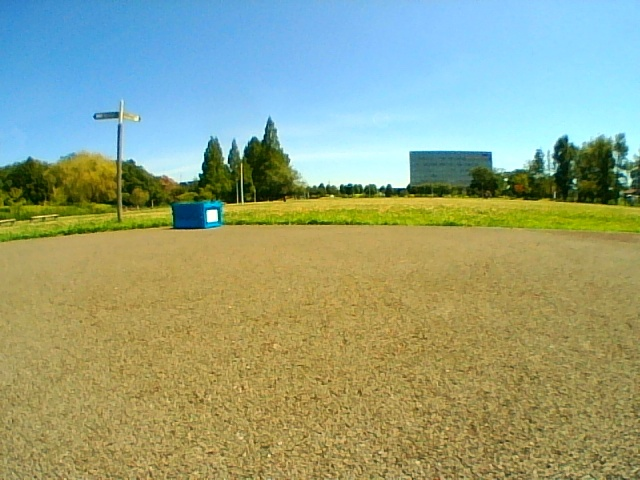blue_box: (172, 203, 221, 229)
tag: (207, 210, 217, 221)
